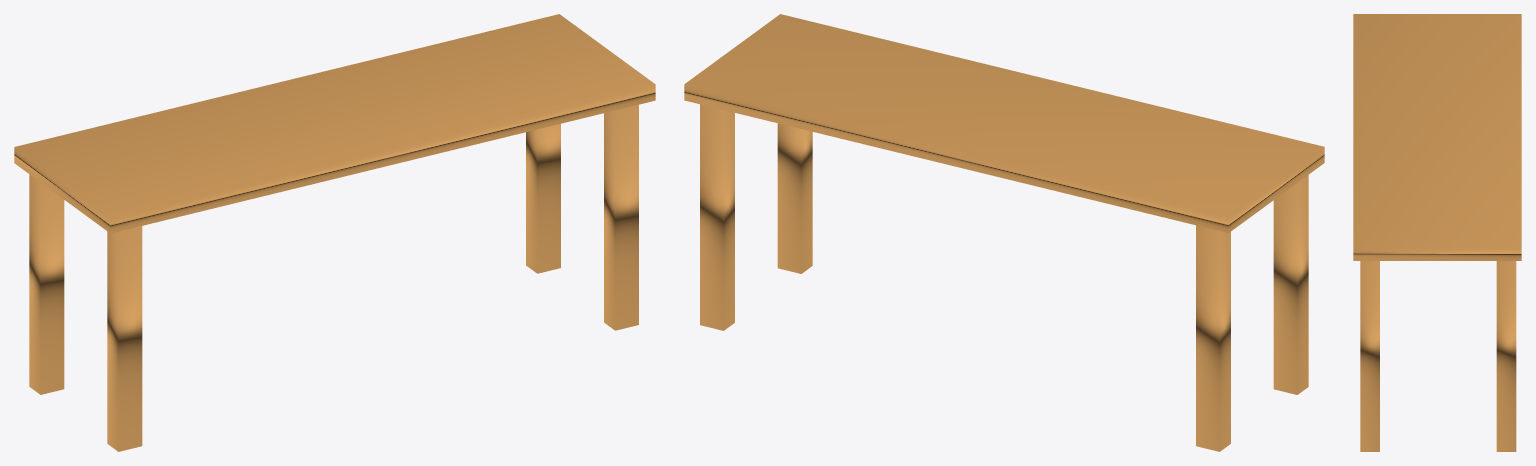
Rendered from table.fbx.
The picture shows the model from 3 angles, left to right: view 1: azimuth 30°, elevation 25°; view 2: azimuth 150°, elevation 25°; view 3: azimuth 270°, elevation 25°; orthographic projection. The views are drawn at different scales.
Visible parts, largest first — view 1: table; view 2: table; view 3: table.
Part boxes in pixels (x1,y1,x2,y2): table: (14,14,655,451); table: (684,14,1324,451); table: (1353,14,1521,451).
Bounding box in the file's own units: 11.81 × 4.98 × 3.61.
